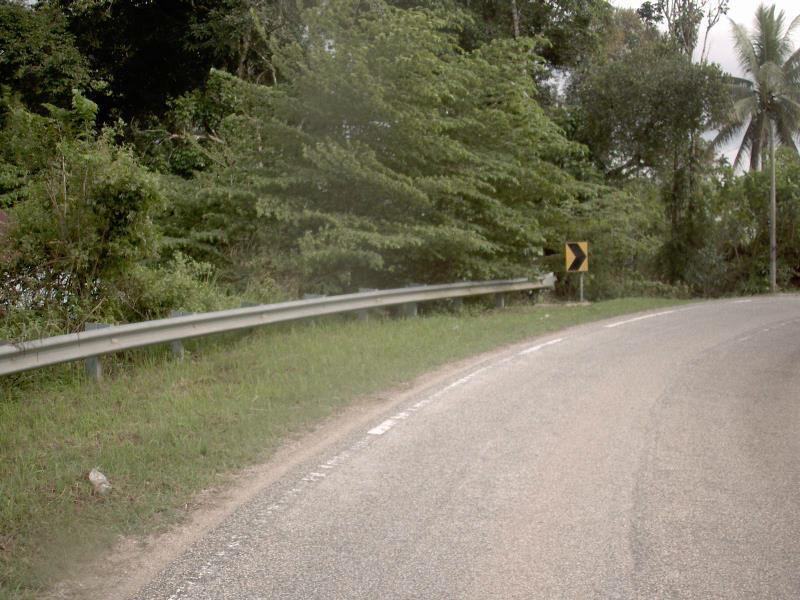traffic_sign: (559, 231, 596, 282)
